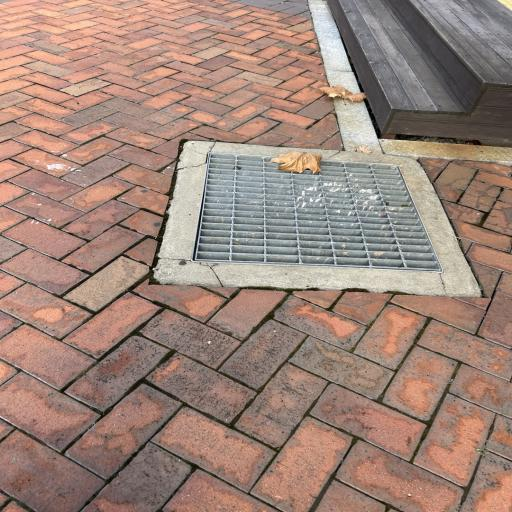drain: (194, 153, 441, 271)
